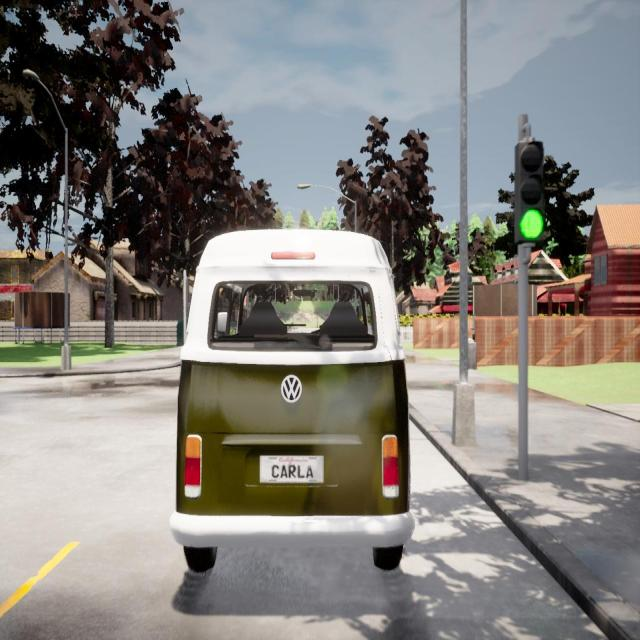Vehicle: (170, 229, 413, 571)
traffic_light: (514, 142, 544, 243), (183, 278, 189, 302)
